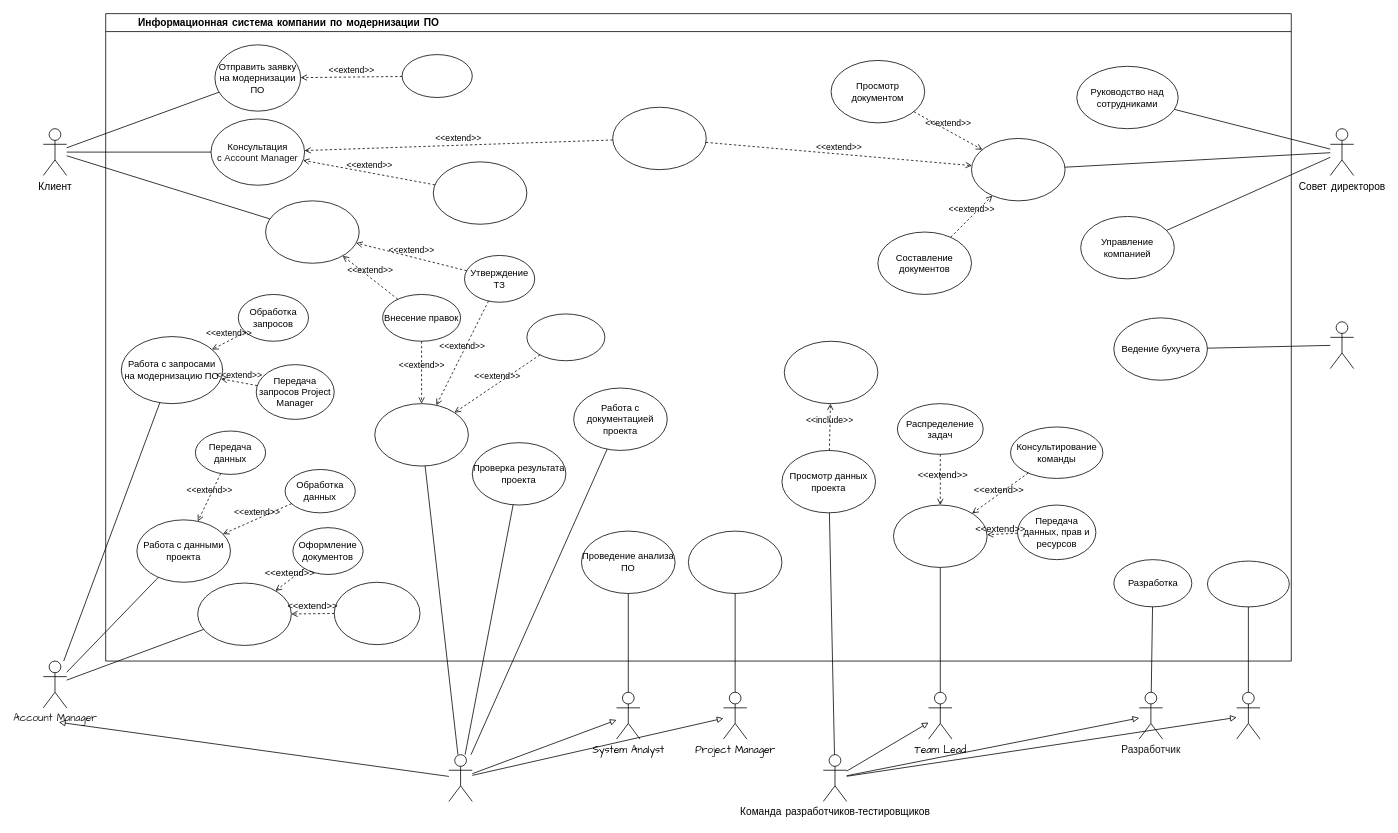
This 1398x833 diagram has some shape labels left out. Each missing label, with the centre of its shape:
"Бухгалтер" goes at (x=1342, y=345).
"Команда проектирования" goes at (x=460, y=777).
"Консультирование клиента" goes at (x=244, y=613).
"Передача данных и ресурсов" goes at (x=480, y=192).
"Передача данных по проекту" goes at (x=376, y=613).
"Подписание документов" goes at (x=659, y=138).
"Прикрепить ТЗ" goes at (x=436, y=76).
"Просмотр ТЗ проекта" goes at (x=312, y=231).
"Работа с докментами" goes at (x=1018, y=169).
"Работа с ПО" goes at (x=831, y=372).
"Работа с ТЗ" goes at (x=421, y=434).
"Руководство над модернизацией ПО" goes at (x=940, y=535).
"Руководство над проектами и командами" goes at (x=735, y=562).
"Составление ТЗ" goes at (x=565, y=337).
"Тестирование" goes at (x=1248, y=583).
"Тестировщик" goes at (x=1248, y=715).
